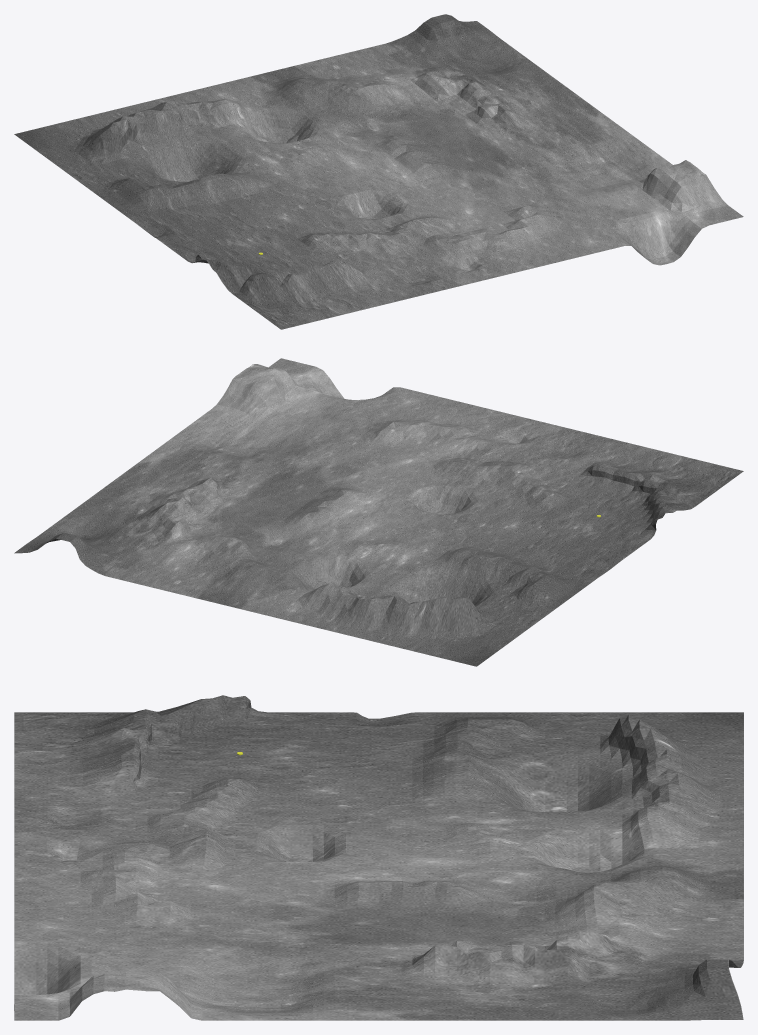
The model's file is map.dae.
3 renders of one model, top to bottom at view 1: azimuth 30°, elevation 25°; view 2: azimuth 150°, elevation 25°; view 3: azimuth 270°, elevation 25°, orthographic. The views are drawn at different scales.
Parts seen in each view (by area): view 1: 平面; view 2: 平面; view 3: 平面.
Boxes of the visible parts, x1,y1,x2,y2 form: 平面: (14, 14, 743, 329); 平面: (14, 358, 743, 666); 平面: (14, 695, 743, 1020).
Size of the model in its own units: 30 by 30.01 by 3.37.
2 materials, 1 textured.
